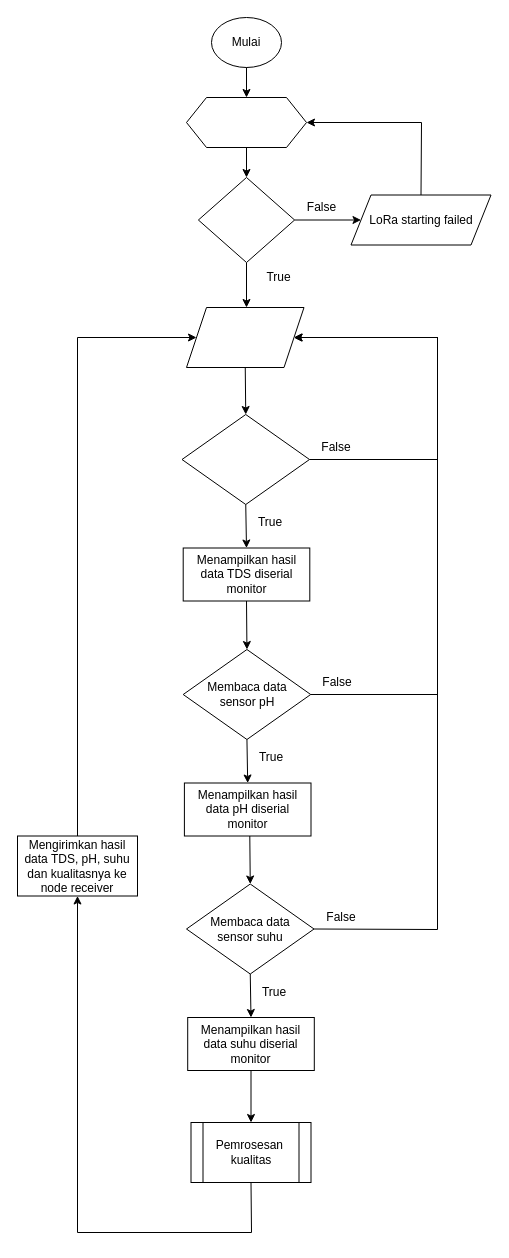
The diagram is 509 pixels wide and 1258 high, and some of its shapes have lost their labels. Here are the shapes that lost their labels. From the top down, the box of each, then its label:
(186, 96, 306, 148): Inisialisasi sensor
(197, 176, 295, 262): Cek LoRa
(186, 306, 304, 368): LoRa ready!
(181, 414, 310, 504): Membaca data sensor TDS
